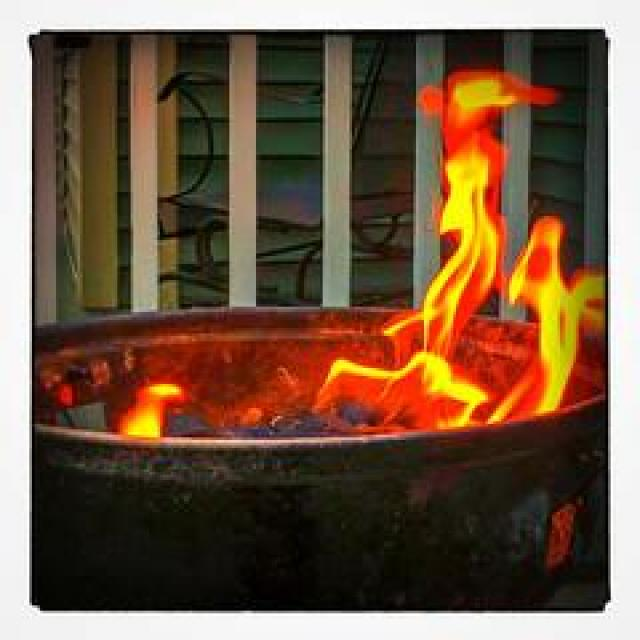fire: (314, 56, 586, 453), (103, 336, 185, 445)
